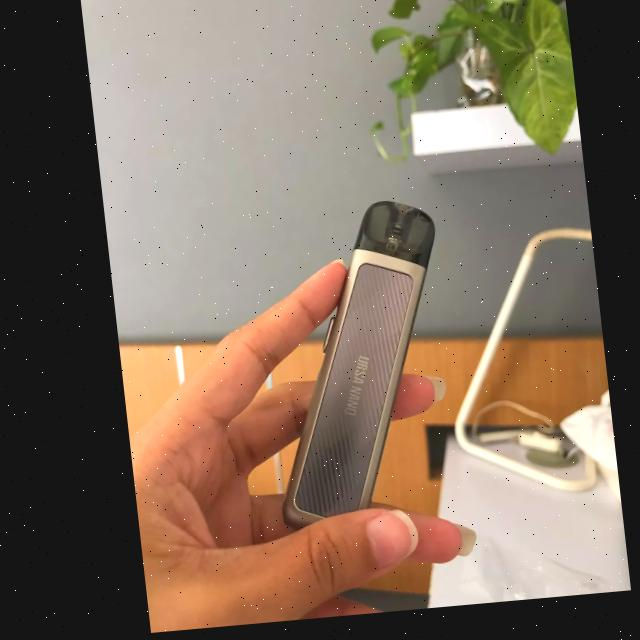vape: (240, 200, 456, 538)
